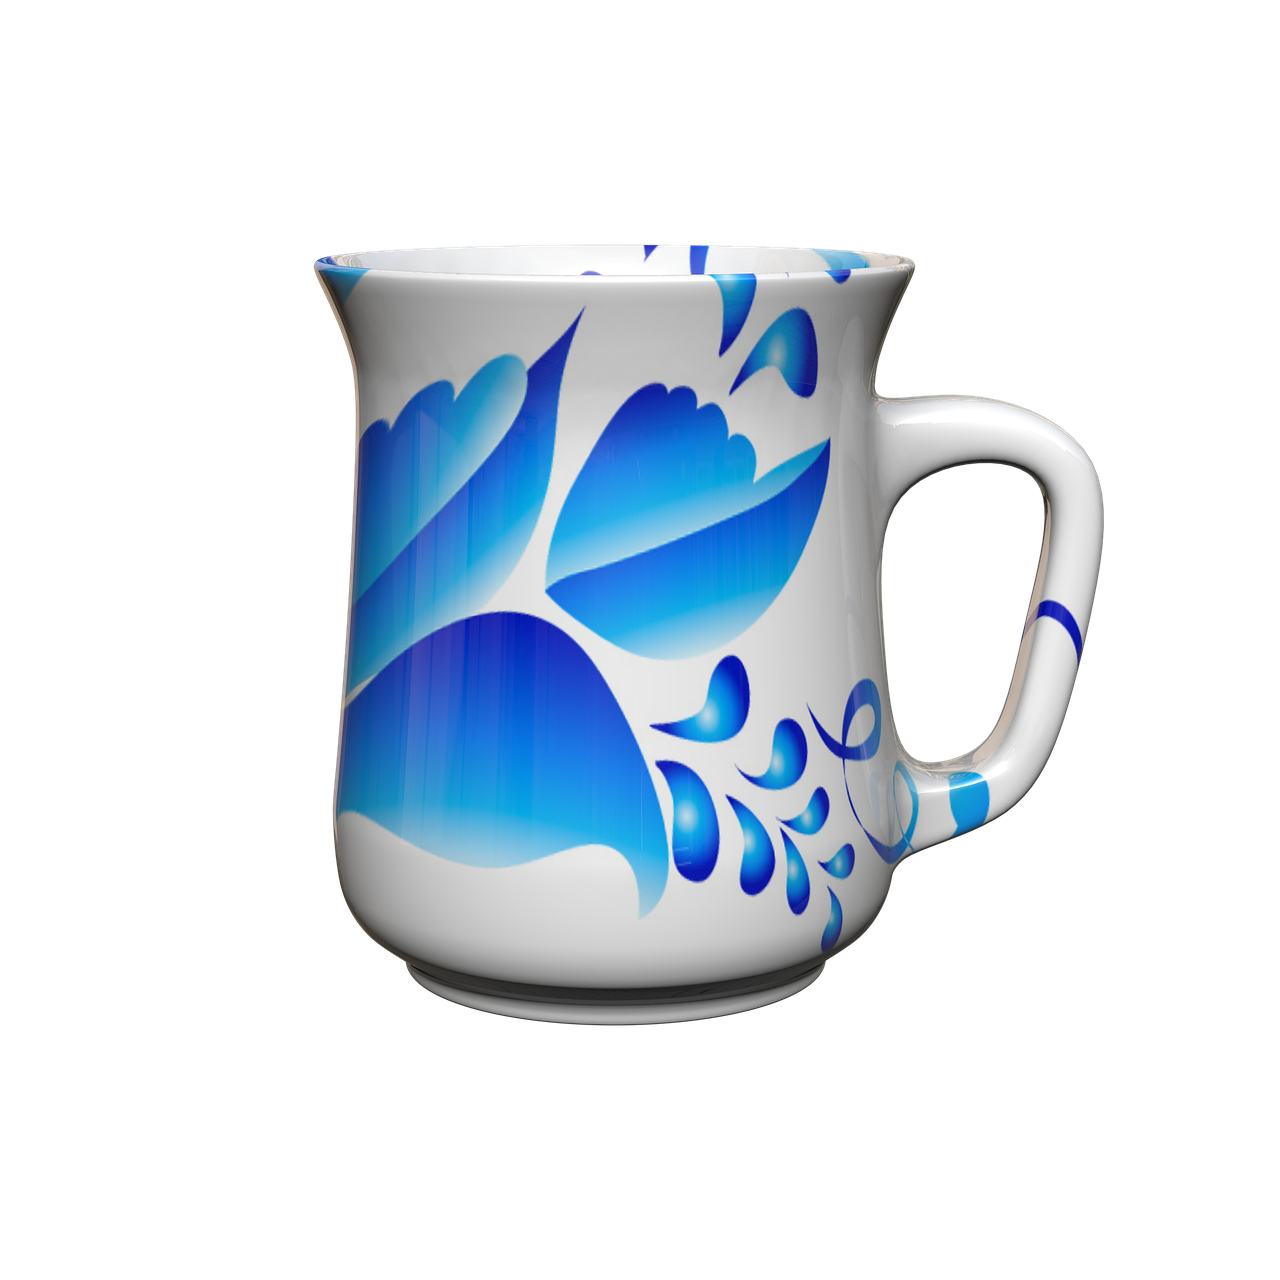mug: (301, 225, 1112, 1029)
